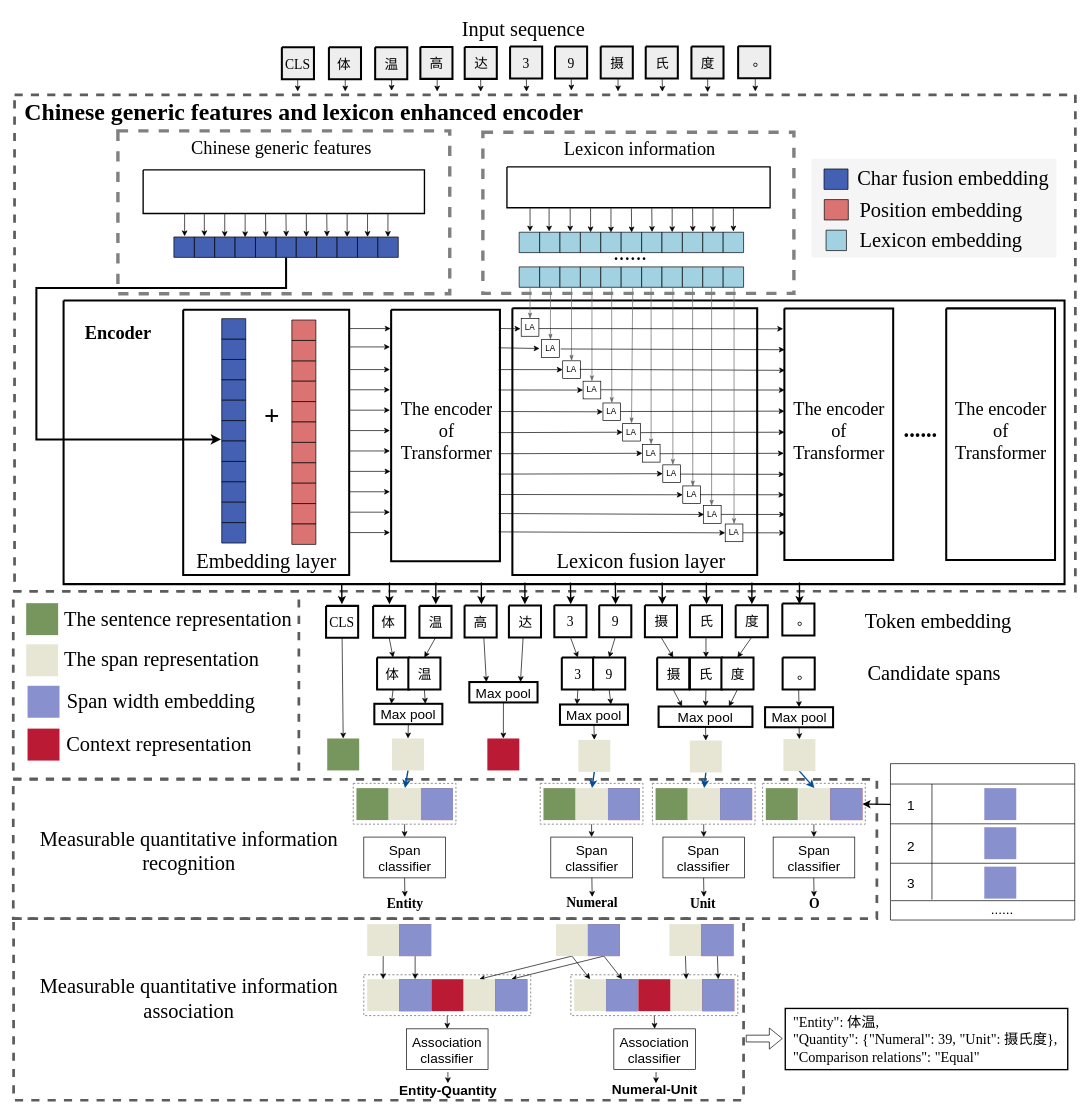
Image size: 1088x1115. Some labels were removed from this diagram. The box of each missing label's shape, as (x1, y1, x2, y2) in pixels:
Char fusion embedding generation: (142, 169, 425, 214)
Lexicon embedding generation: (506, 166, 770, 208)
The table of width embedding: (890, 763, 1075, 920)
